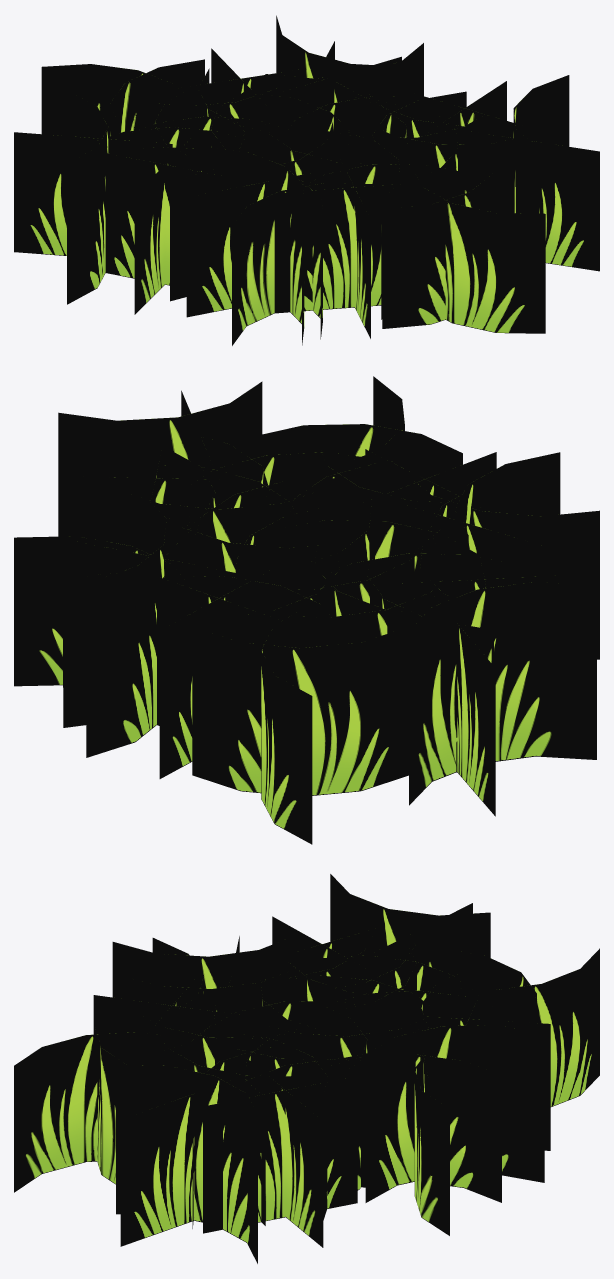
File: Grass_C.FBX
3 views of the same model, one above another, from view 1: azimuth 30°, elevation 25°; view 2: azimuth 150°, elevation 25°; view 3: azimuth 270°, elevation 25° (orthographic). The views are drawn at different scales.
Visible parts, largest first — view 1: Grass_3_A, Grass_3_C, Grass_3_D, Grass_3_B; view 2: Grass_3_C, Grass_3_B, Grass_3_D, Grass_3_A; view 3: Grass_3_A, Grass_3_B, Grass_3_D, Grass_3_C.
Part boxes in pixels (x1=…): Grass_3_A: x1=247, y1=75, x2=599, y2=333; Grass_3_C: x1=14, y1=59, x2=385, y2=314; Grass_3_D: x1=121, y1=41, x2=535, y2=345; Grass_3_B: x1=85, y1=15, x2=491, y2=345; Grass_3_C: x1=192, y1=480, x2=596, y2=844; Grass_3_B: x1=63, y1=464, x2=599, y2=778; Grass_3_D: x1=14, y1=437, x2=560, y2=727; Grass_3_A: x1=58, y1=376, x2=462, y2=608; Grass_3_A: x1=14, y1=1003, x2=435, y2=1263; Grass_3_B: x1=115, y1=934, x2=550, y2=1225; Grass_3_D: x1=93, y1=935, x2=501, y2=1235; Grass_3_C: x1=206, y1=874, x2=599, y2=1106.
Bounding box in the file's own units: 657 × 189 × 672.
